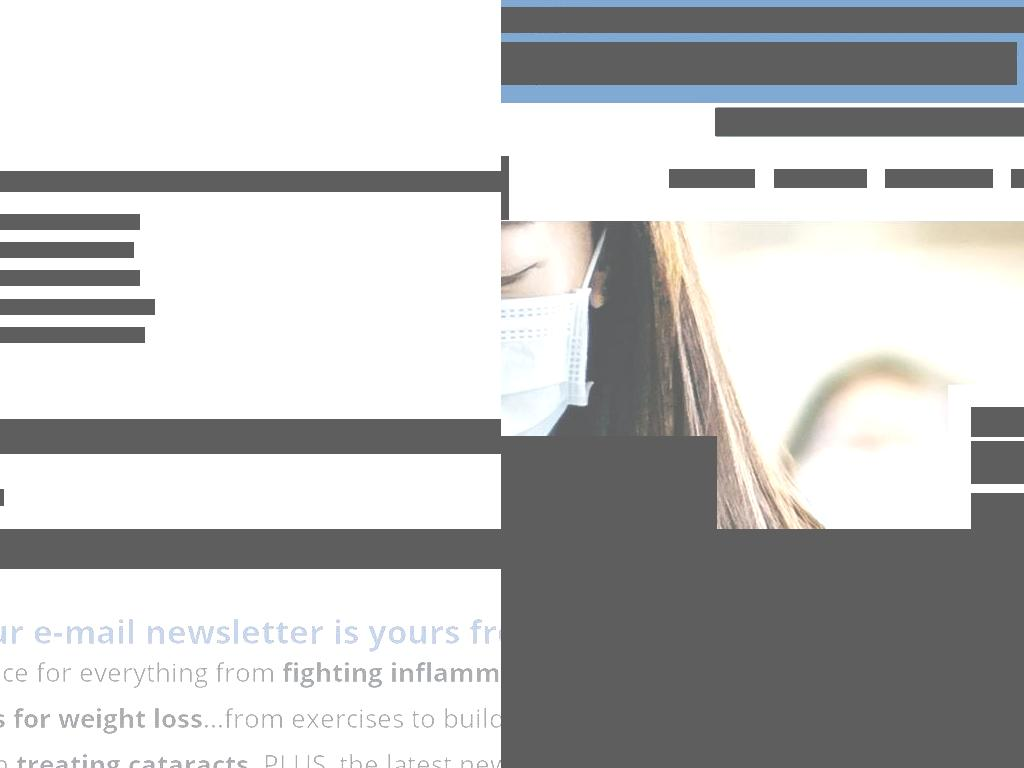button: (257, 611, 501, 768), (294, 586, 501, 768), (566, 708, 689, 744), (72, 529, 172, 569), (171, 529, 271, 569), (270, 529, 370, 569), (369, 529, 469, 569), (0, 529, 73, 569), (501, 709, 546, 743), (468, 529, 501, 569)
field: (742, 708, 1024, 744), (715, 108, 1024, 136)
heading: (501, 436, 717, 529), (501, 7, 1024, 33), (0, 171, 501, 192), (0, 608, 198, 654), (971, 407, 1024, 437)
image: (501, 529, 1024, 768), (501, 529, 1024, 694), (544, 556, 1024, 652), (294, 590, 501, 768), (257, 611, 501, 659), (501, 709, 546, 743), (575, 715, 597, 738)
link: (0, 299, 155, 315), (0, 327, 145, 343), (0, 214, 140, 230), (0, 270, 140, 286), (0, 242, 134, 258), (885, 169, 993, 188), (774, 169, 867, 188), (669, 169, 755, 188), (501, 42, 568, 62), (206, 419, 272, 435), (0, 655, 40, 671)
text: (501, 42, 1017, 85), (0, 419, 501, 454), (0, 683, 211, 751), (501, 65, 672, 85), (0, 419, 206, 435), (180, 532, 263, 563), (279, 532, 362, 563), (378, 532, 461, 563), (971, 441, 1024, 484), (0, 532, 65, 563), (610, 718, 675, 734), (97, 540, 148, 556), (484, 540, 501, 556)
